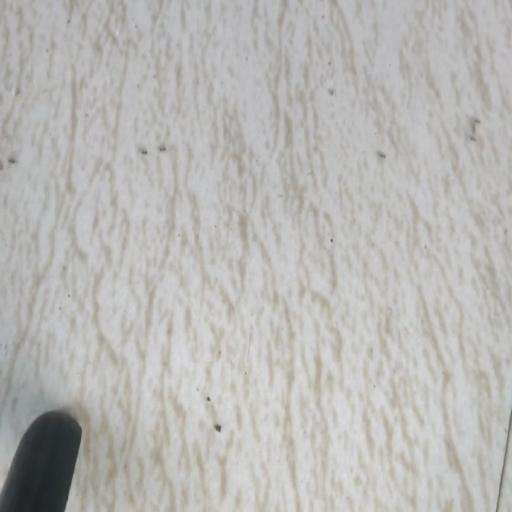Ant-Traffic: (362, 112, 393, 198), (465, 98, 484, 170), (132, 125, 154, 181), (4, 129, 26, 185)
